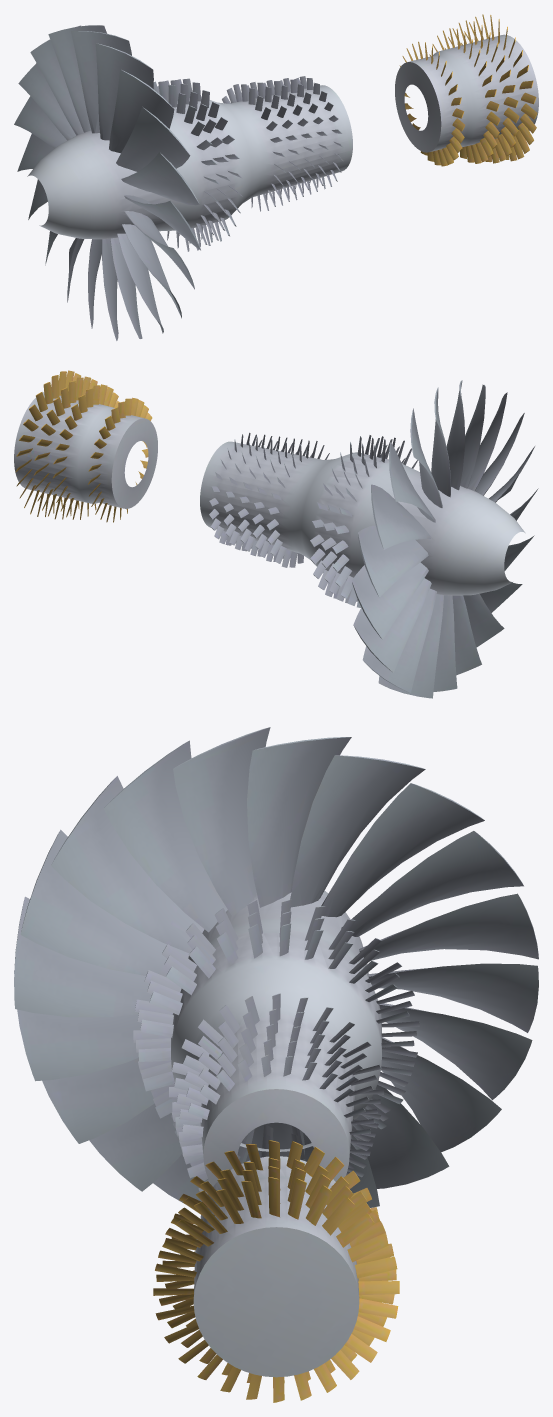
Rendered from rotors.glb.
3 renders of one model, top to bottom at view 1: azimuth 30°, elevation 25°; view 2: azimuth 150°, elevation 25°; view 3: azimuth 270°, elevation 25°, orthographic. The views are drawn at different scales.
Visible parts, largest first — view 1: fan, hpc, lpt, lpc, hpt; view 2: fan, hpc, lpt, lpc, hpt; view 3: fan, lpt, hpc, lpc, hpt.
Part boxes in pixels (bbox=[...]): fan: bbox=[14, 25, 200, 340]; hpc: bbox=[218, 76, 352, 211]; lpt: bbox=[429, 14, 538, 163]; lpc: bbox=[153, 78, 251, 251]; hpt: bbox=[395, 41, 468, 166]; fan: bbox=[352, 380, 538, 698]; hpc: bbox=[200, 432, 334, 567]; lpt: bbox=[14, 370, 119, 519]; lpc: bbox=[301, 435, 420, 607]; hpt: bbox=[84, 397, 157, 522]; fan: bbox=[14, 727, 538, 1207]; lpt: bbox=[153, 1158, 399, 1402]; hpc: bbox=[169, 990, 383, 1194]; lpc: bbox=[133, 899, 419, 1163]; hpt: bbox=[171, 1140, 378, 1271].
Bounding box in the file's own units: 2.81 × 1.62 × 1.62.
Materials: 1 (1 with a texture image).
